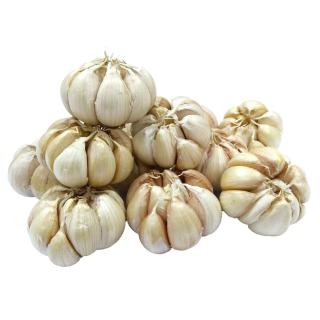Bawang Putih: (59, 51, 165, 131)
